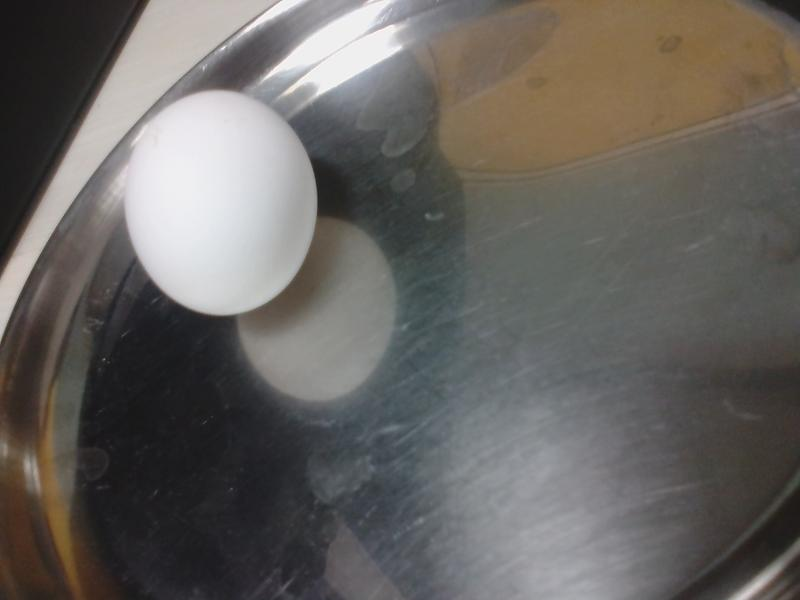egg: (122, 94, 319, 308)
